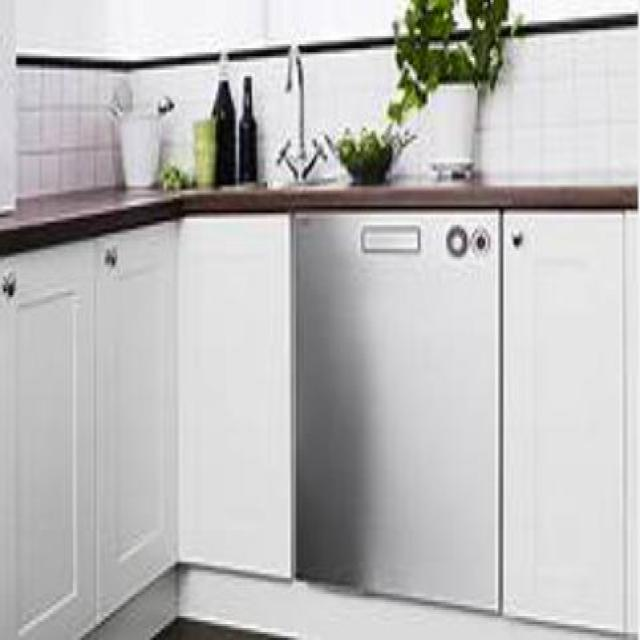dishwasher: (291, 205, 499, 614)
